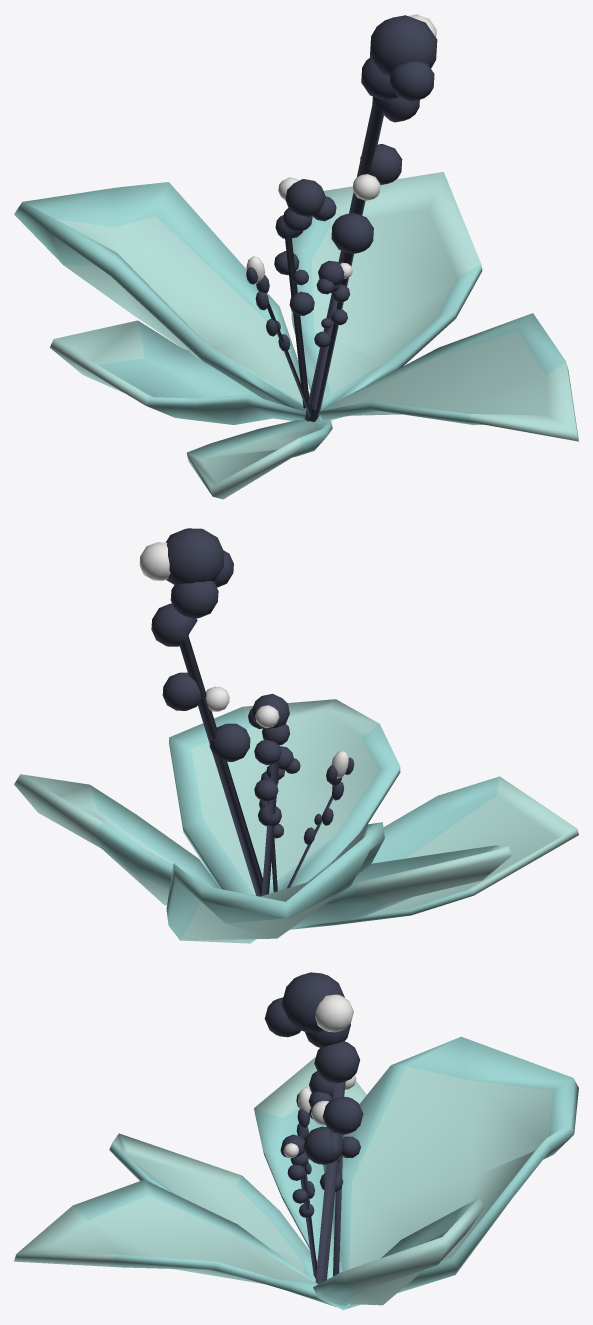
File: flower_p03.fbx
The picture shows the model from 3 angles, top to bottom: view 1: azimuth 30°, elevation 25°; view 2: azimuth 150°, elevation 25°; view 3: azimuth 270°, elevation 25°; orthographic projection. The views are drawn at different scales.
Parts seen in each view (by area): view 1: Fleur03; view 2: Fleur03; view 3: Fleur03.
Part boxes in pixels (x1,y1,x2,y2): Fleur03: (14,14,578,499); Fleur03: (14,528,578,943); Fleur03: (14,972,578,1310).
Size of the model in its own units: 102 by 85.02 by 118.
